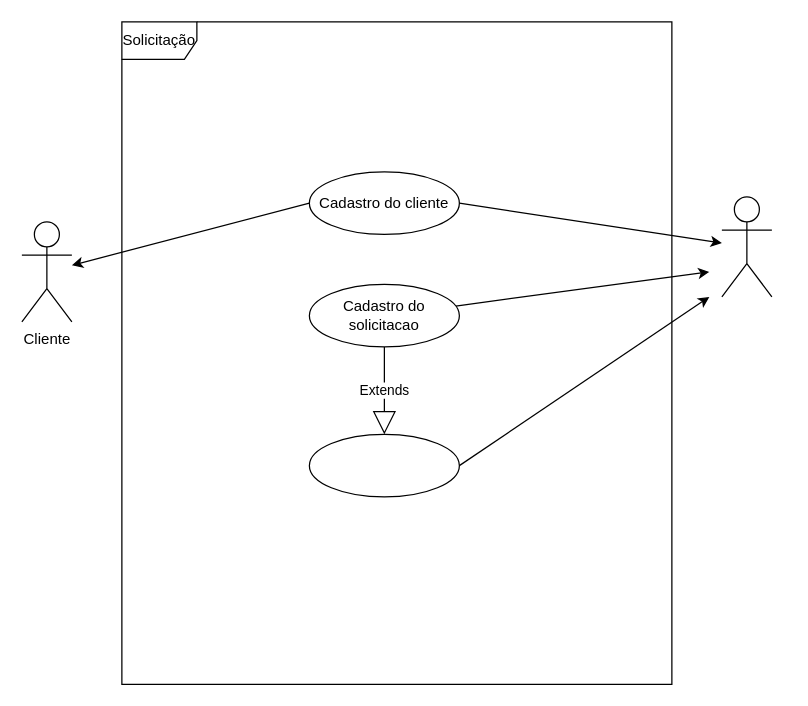
The diagram is 808 pixels wide and 706 high, and some of its shapes have lost their labels. The centre of each missing label's shape, as x and y in pixels:
Atualização do solicitacao: (383,465)
Funcionário: (746,246)
